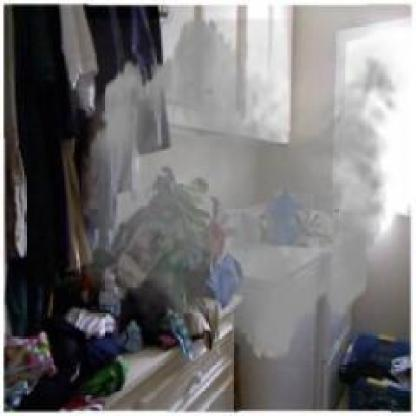Smoke: (70, 6, 408, 372)
